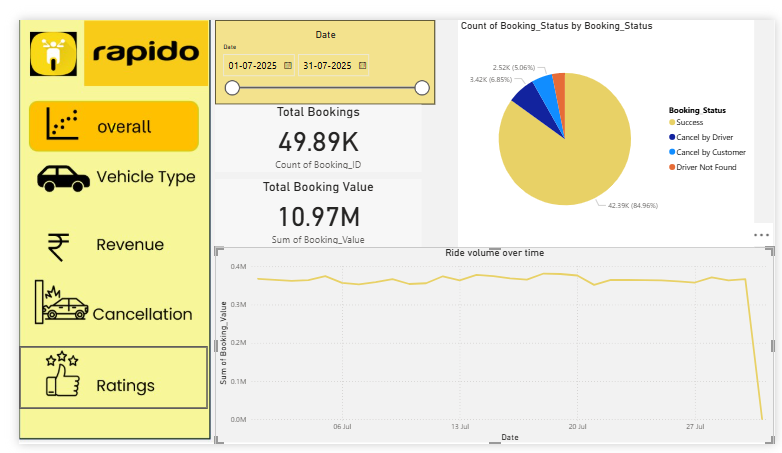

The dashboard page shown, as its layout file describes it:
{"tool":"powerbi","page":{"name":"overall","canvas":[1280,720],"ordinal":0},"visuals":[{"type":"actionButton","box":[0,236.2,321.1,72],"z":0},{"type":"actionButton","box":[0,347,321.1,74.9],"z":1000},{"type":"actionButton","box":[0,434.9,321.1,102.2],"z":2000},{"type":"lineChart","title":"Ride volume over time ","fields":{"Category":["Rapido_hyderabad.Data_Time"],"Y":["Sum(Rapido_hyderabad.Booking_Value)"]},"box":[331.7,385,948.3,335],"z":4000},{"type":"slicer","title":"Date","fields":{"Values":["Rapido_hyderabad.Date"]},"box":[331.7,0,373.3,143.3],"z":5000},{"type":"card","title":"Total Bookings","fields":{"Values":["CountNonNull(Rapido_hyderabad.Booking_ID)"]},"box":[332.4,142.6,350,114.7],"z":6000},{"type":"card","title":"Total Booking Value","fields":{"Values":["Sum(Rapido_hyderabad.Booking_Value)"]},"box":[332.4,269.1,350,114.7],"z":7000},{"type":"pieChart","fields":{"Category":["Rapido_hyderabad.Booking_Status"],"Y":["CountNonNull(Rapido_hyderabad.Booking_Status)"]},"box":[744.1,0,502.3,384.7],"z":8000},{"type":"actionButton","box":[0,552.5,320.3,106.8],"z":8001}]}

Visuals, with their boxes in screenshot pixels (x1, y1, x2, y2), scaled from the page's 1280x720 canvas onto the 782x453 screenshot:
actionButton: (x1=0, y1=149, x2=196, y2=194)
actionButton: (x1=0, y1=218, x2=196, y2=265)
actionButton: (x1=0, y1=274, x2=196, y2=338)
"Ride volume over time " lineChart: (x1=203, y1=242, x2=781, y2=452)
"Date" slicer: (x1=203, y1=0, x2=431, y2=90)
"Total Bookings" card: (x1=203, y1=90, x2=417, y2=162)
"Total Booking Value" card: (x1=203, y1=169, x2=417, y2=241)
pieChart - Rapido_hyderabad.Booking_Status x CountNonNull(Rapido_hyderabad.Booking_Status): (x1=455, y1=0, x2=761, y2=242)
actionButton: (x1=0, y1=348, x2=196, y2=415)
